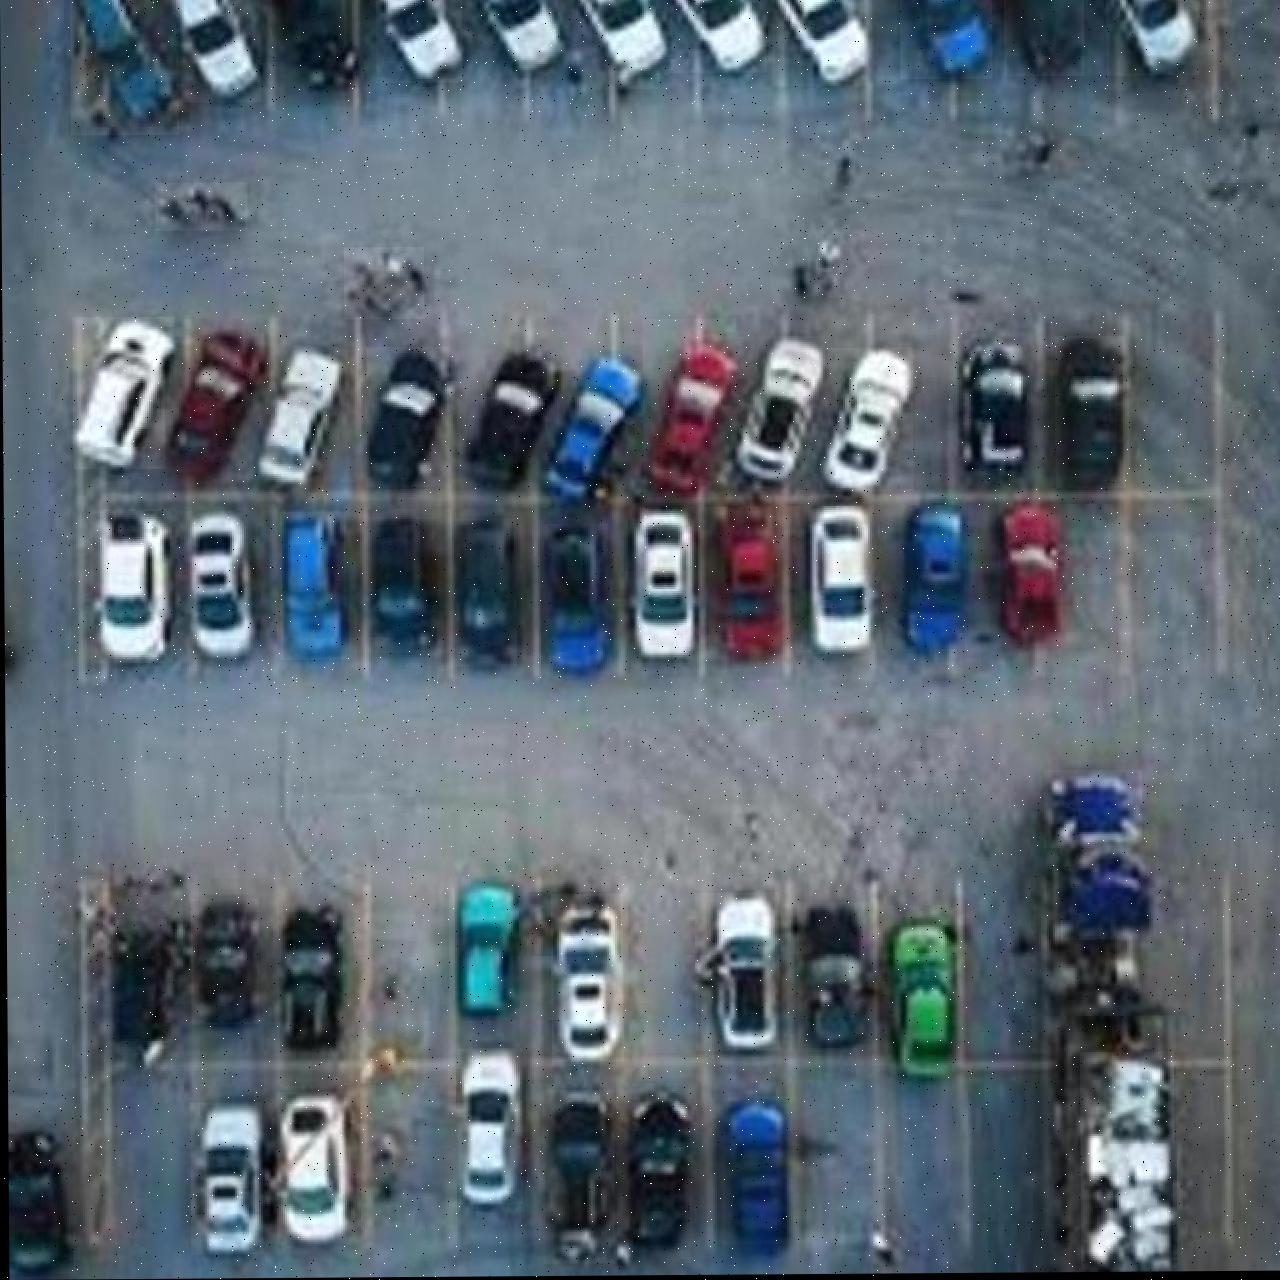car: (1078, 1053, 1173, 1272), (642, 320, 737, 496), (72, 317, 175, 470), (164, 326, 265, 481), (538, 354, 643, 503), (70, 0, 179, 136), (818, 349, 913, 493), (732, 337, 825, 484), (462, 349, 559, 489), (693, 894, 778, 1052), (540, 1090, 613, 1265), (881, 916, 956, 1081), (549, 894, 622, 1063), (254, 346, 341, 487), (93, 509, 172, 663), (364, 347, 449, 488), (713, 497, 784, 660), (274, 1092, 349, 1244), (188, 1103, 261, 1255), (622, 1090, 691, 1248), (1054, 337, 1125, 490), (795, 903, 870, 1047), (185, 513, 254, 661), (629, 508, 696, 660), (456, 1049, 521, 1205), (899, 502, 966, 653), (541, 524, 608, 675), (275, 904, 344, 1050), (720, 1097, 787, 1246), (956, 338, 1029, 474), (807, 507, 874, 655), (279, 512, 346, 660), (107, 919, 172, 1071), (997, 498, 1062, 648), (168, 0, 261, 103), (367, 517, 434, 654), (7, 1128, 69, 1274), (455, 519, 516, 667), (453, 881, 518, 1015), (189, 899, 258, 1025), (572, 0, 667, 91), (1059, 847, 1150, 942), (772, 0, 869, 88), (1083, 1177, 1171, 1272), (272, 0, 361, 90), (1043, 771, 1141, 850), (900, 0, 993, 81), (376, 0, 463, 84), (1106, 0, 1198, 78), (670, 0, 766, 74), (476, 0, 564, 75), (1004, 0, 1084, 78), (343, 248, 424, 320), (155, 183, 247, 231)
